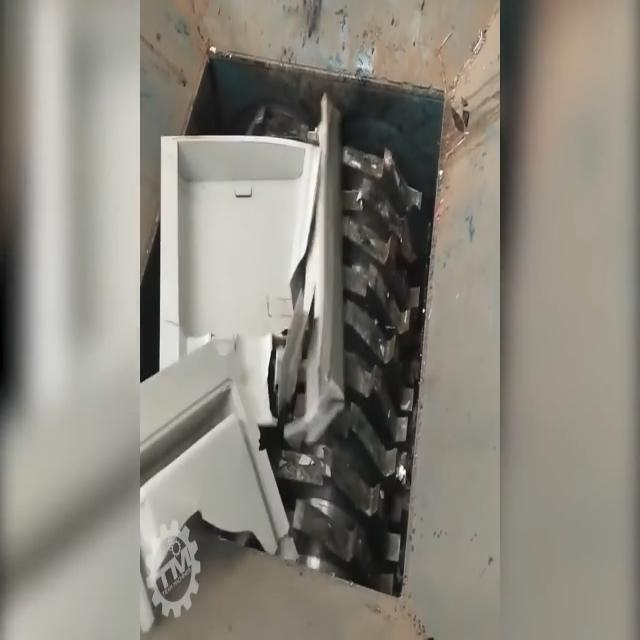Broyeur: (139, 16, 458, 627)
